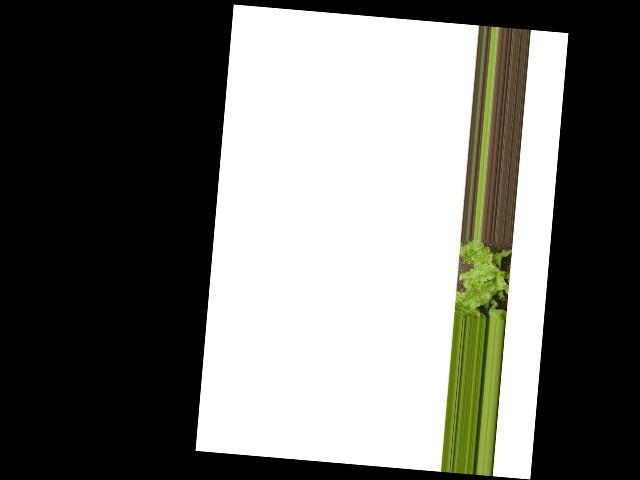lettuce: (456, 239, 516, 321)
